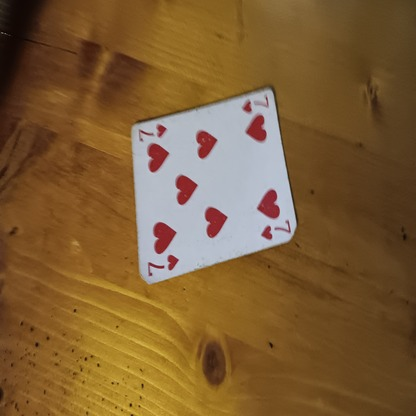7h: (147, 255, 180, 278), (134, 122, 169, 141), (261, 219, 290, 240), (240, 94, 270, 113)
